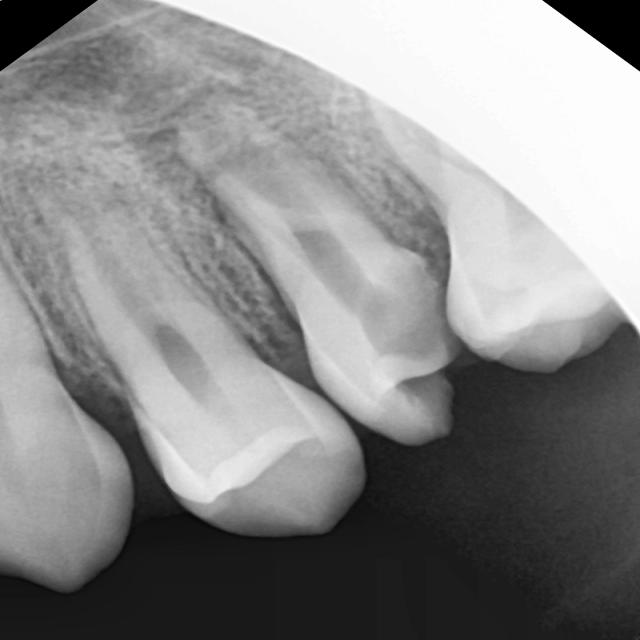Caries: (384, 297, 516, 443)
Normal: (6, 108, 401, 559)
